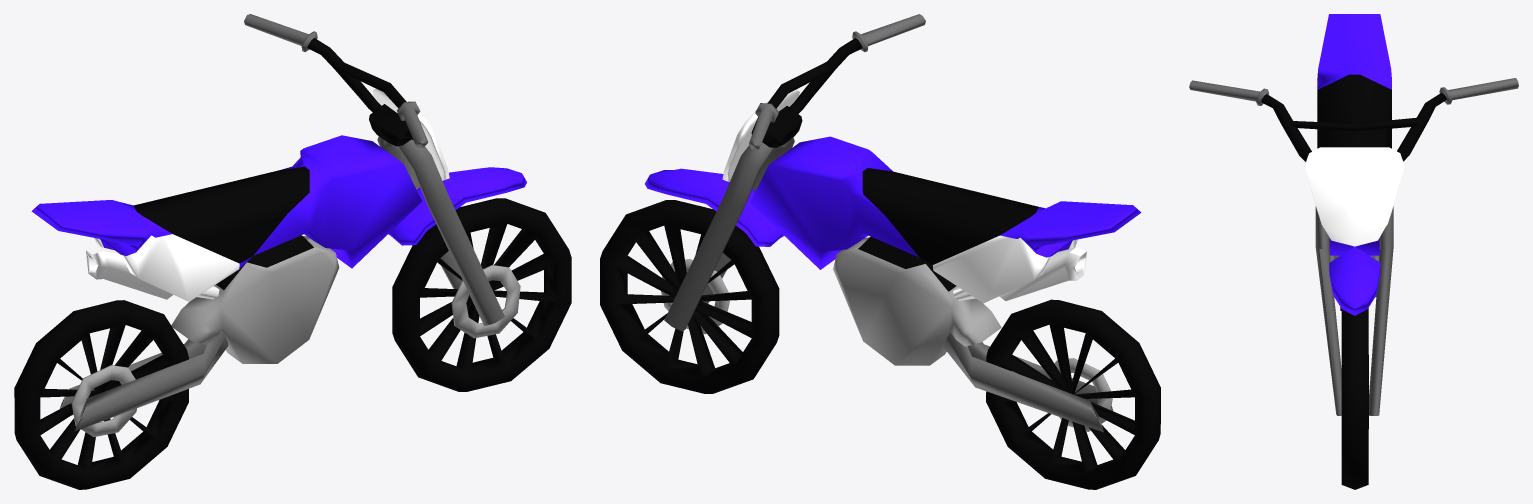
Rendered from DirtBike250ccBlue.glb.
3 renders of one model, left to right at view 1: azimuth 30°, elevation 25°; view 2: azimuth 150°, elevation 25°; view 3: azimuth 270°, elevation 25°, orthographic. The views are drawn at different scales.
Visible parts, largest first — view 1: DirtBike250ccBlue; view 2: DirtBike250ccBlue; view 3: DirtBike250ccBlue.
Boxes of the visible parts, x1,y1,x2,y2 form: DirtBike250ccBlue: (14, 14, 571, 489); DirtBike250ccBlue: (600, 14, 1160, 489); DirtBike250ccBlue: (1189, 14, 1518, 489).
Bounding box in the file's own units: 2.46 × 1.49 × 1.33.
Materials: 1 (1 with a texture image).
